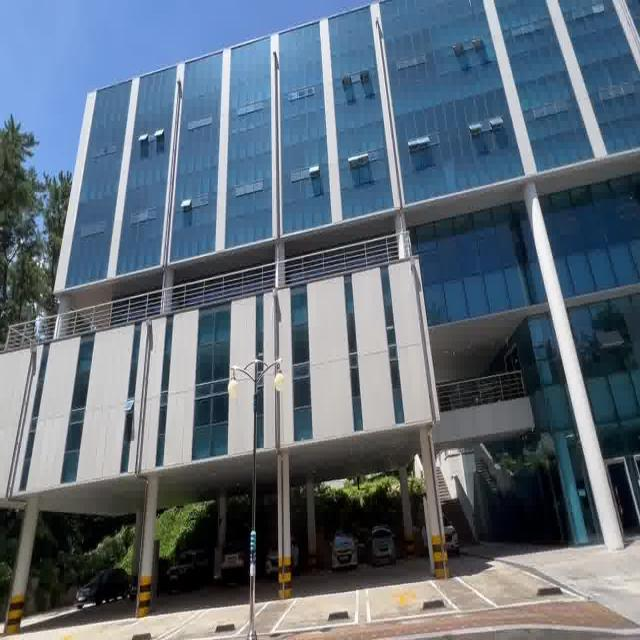building: (17, 22, 640, 463)
